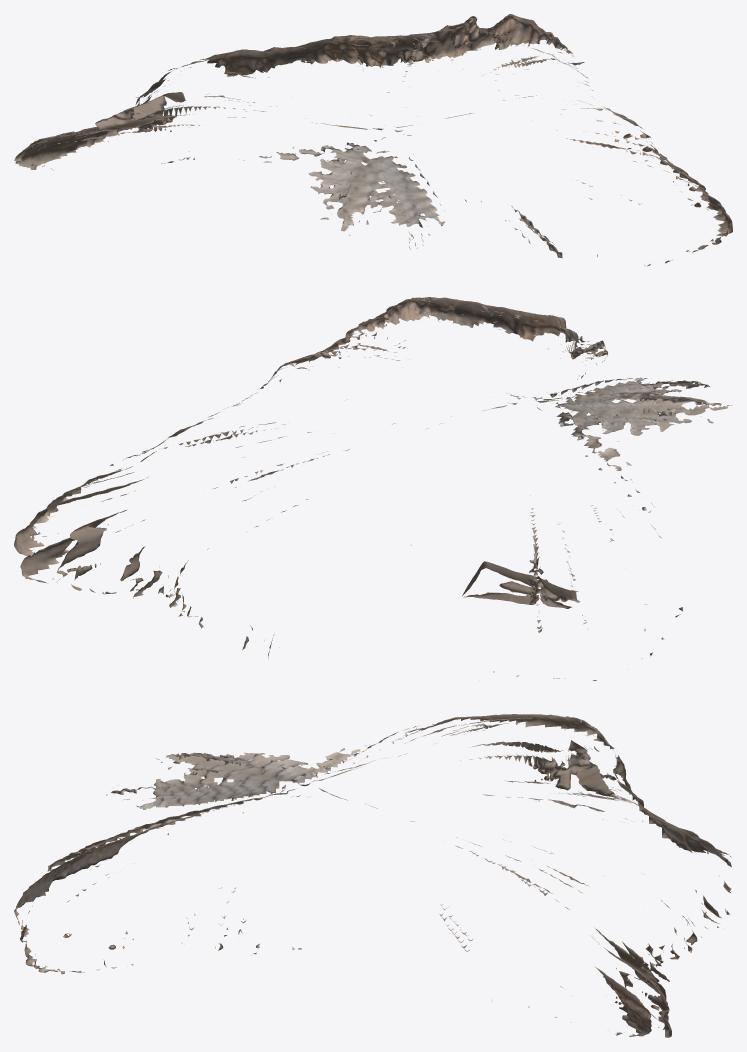
The model's file is culdesac_collider.glb.
The picture shows the model from 3 angles, top to bottom: view 1: azimuth 30°, elevation 25°; view 2: azimuth 150°, elevation 25°; view 3: azimuth 270°, elevation 25°; orthographic projection. The views are drawn at different scales.
Visible parts, largest first — view 1: world; view 2: world; view 3: world.
Part boxes in pixels (x1=…): world: x1=14, y1=14, x2=732, y2=266; world: x1=14, y1=297, x2=732, y2=680; world: x1=14, y1=714, x2=731, y2=1037.
Size of the model in its own units: 130 by 23.57 by 139.
